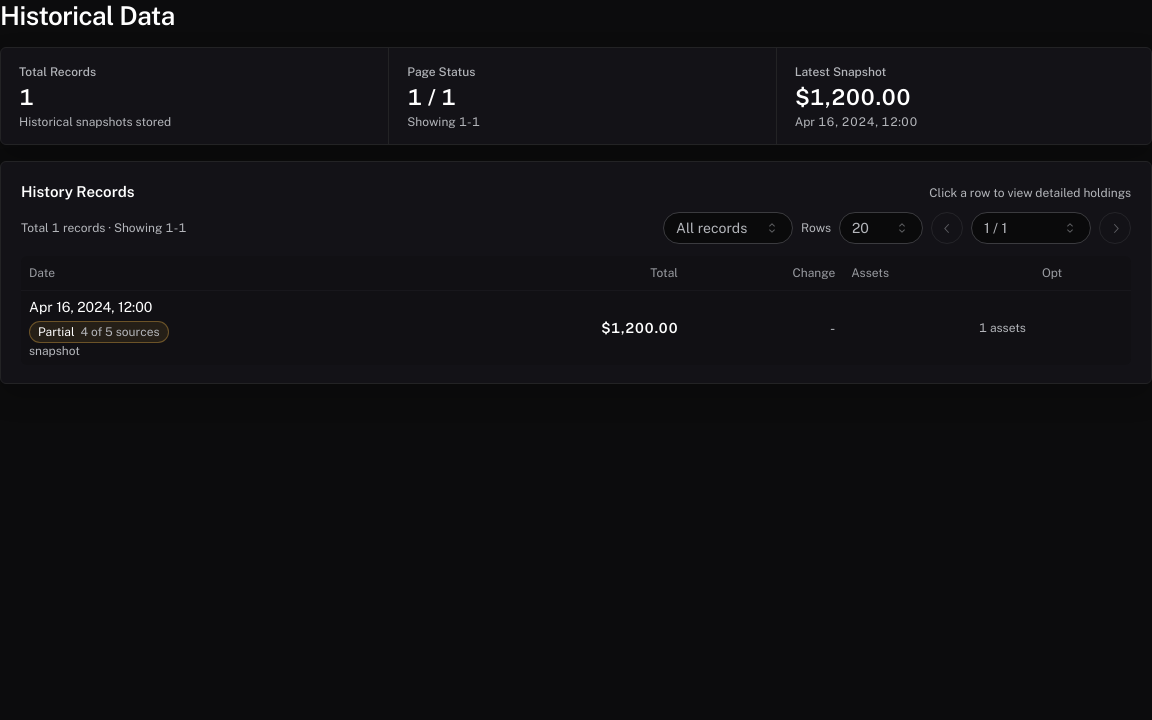
Test: Historical Data page › marks a carried snapshot in the list and explains its missing source in detail
The image size is (1152, 720).
Check: the text "Partial" is shown, box left=38, top=324, right=75, bottom=340
Check: the text "4 of 5 sources" is shown, box left=81, top=324, right=160, bottom=340
Click the row with test id "history-snapshot-row". click: (576, 327)
box: left=21, top=290, right=1131, bottom=364
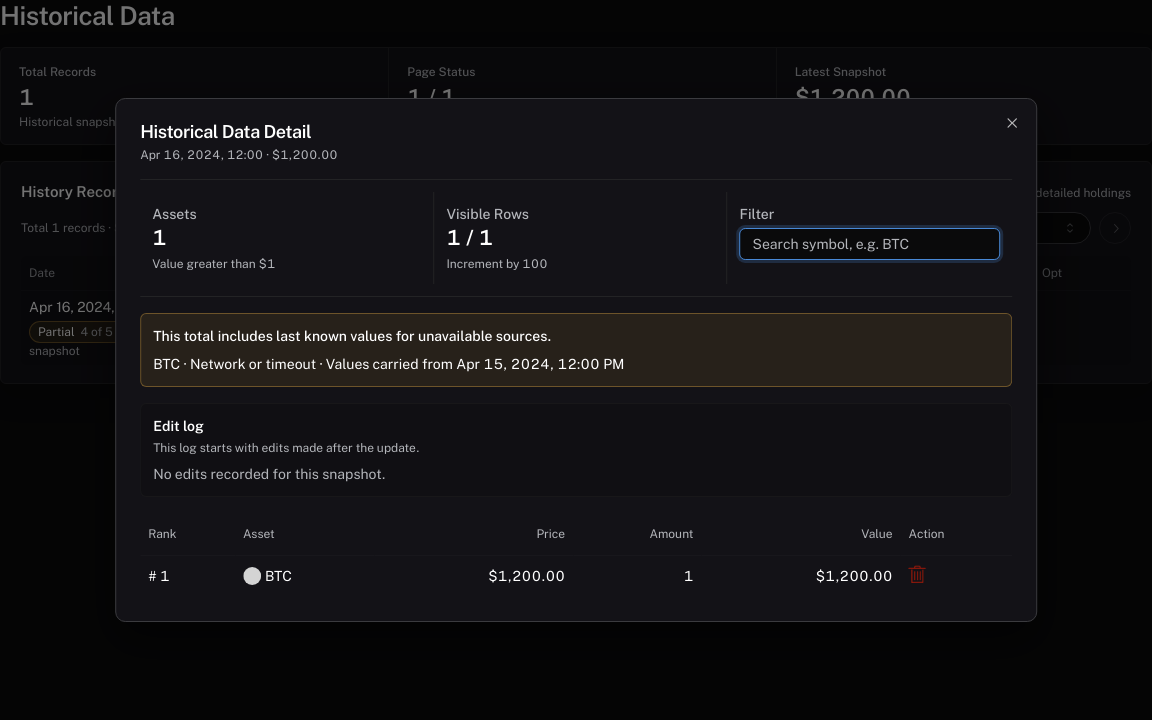
Check: the text "This total includes last known values for unavailable sources." is shown, box left=153, top=328, right=552, bottom=344
Check: the list item "BTC" is shown, box left=153, top=356, right=180, bottom=372
